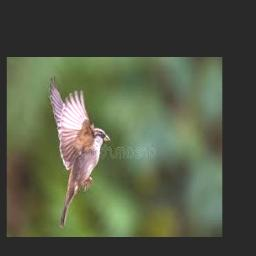Sparrow: (49, 75, 111, 227)
